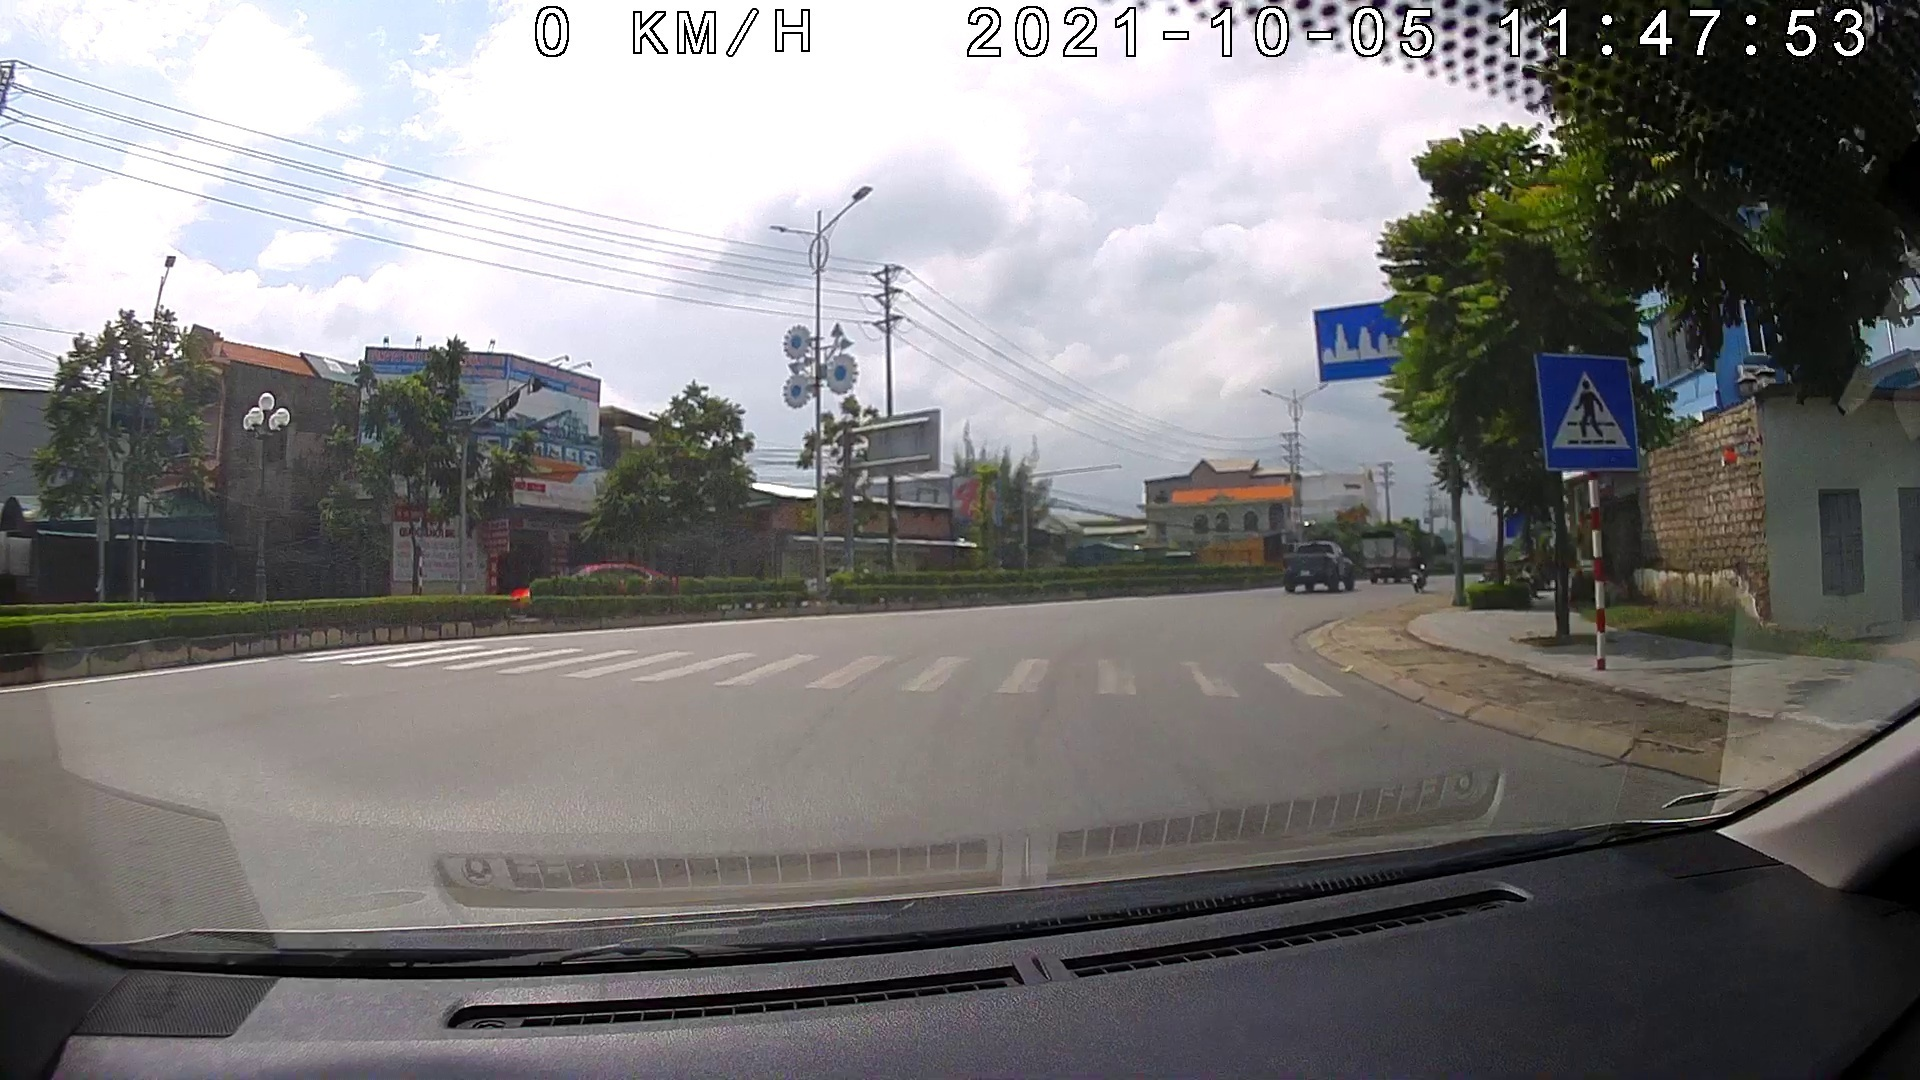Bien khac: (1313, 305, 1407, 378)
Nguoi di bo: (1528, 349, 1640, 472)
